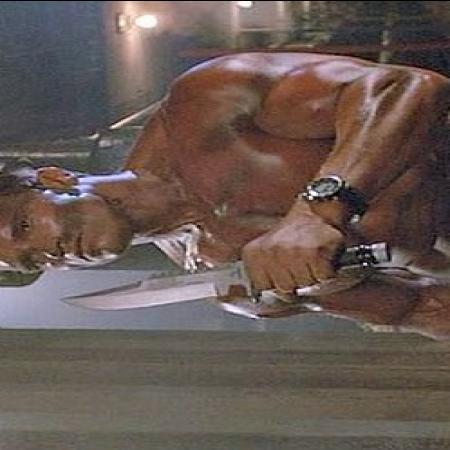long weapon: (47, 246, 333, 318)
